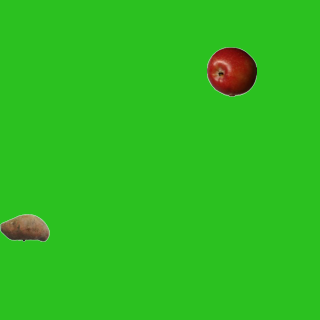Apple Braeburn: (206, 46, 256, 96)
Potato Sweet: (0, 202, 49, 252)
